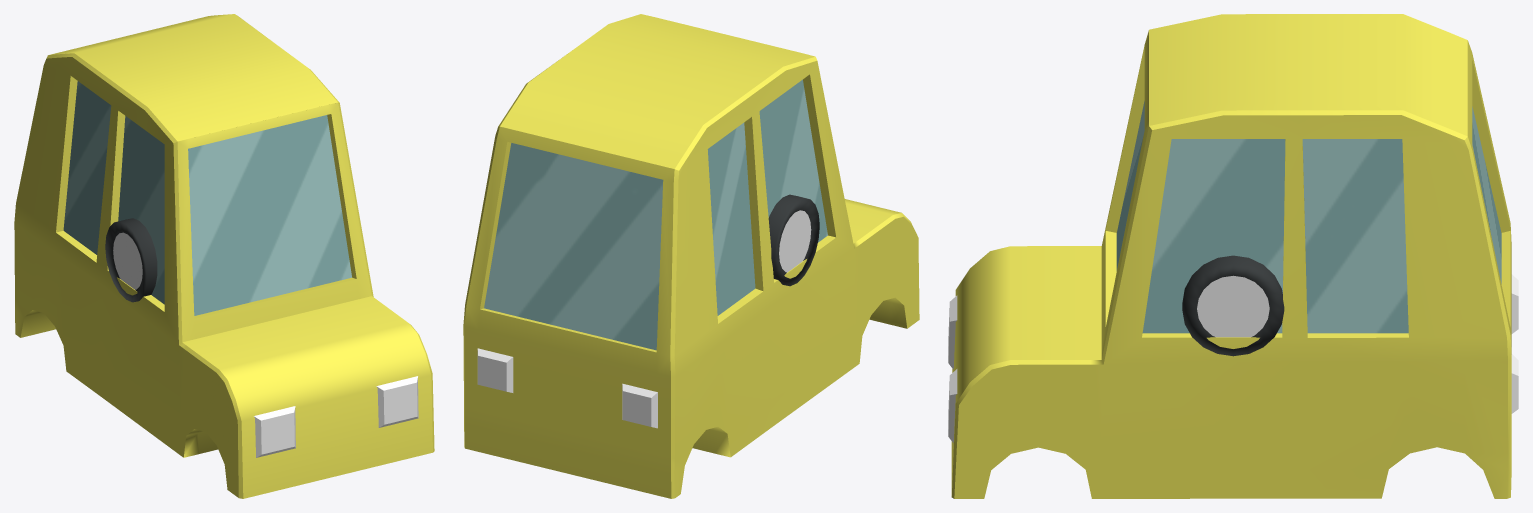
File: car_1_Y.fbx
3 renders of one model, left to right at view 1: azimuth 30°, elevation 25°; view 2: azimuth 150°, elevation 25°; view 3: azimuth 270°, elevation 25°, orthographic. The views are drawn at different scales.
Visible parts, largest first — view 1: car_1_chasis_Y, car_1_right_wheel_Y, car_1_back_wheel_Y; view 2: car_1_chasis_Y, car_1_right_wheel_Y, car_1_back_wheel_Y; view 3: car_1_chasis_Y, car_1_back_wheel_Y.
Part boxes in pixels (bbox=[...]): car_1_chasis_Y: bbox=[14, 14, 434, 498]; car_1_right_wheel_Y: bbox=[105, 218, 157, 302]; car_1_back_wheel_Y: bbox=[131, 223, 156, 301]; car_1_chasis_Y: bbox=[463, 14, 919, 498]; car_1_right_wheel_Y: bbox=[769, 194, 819, 286]; car_1_back_wheel_Y: bbox=[768, 195, 797, 276]; car_1_chasis_Y: bbox=[948, 14, 1518, 498]; car_1_back_wheel_Y: bbox=[1182, 255, 1284, 356].
Size of the model in its own units: 76.29 by 115 by 157.
